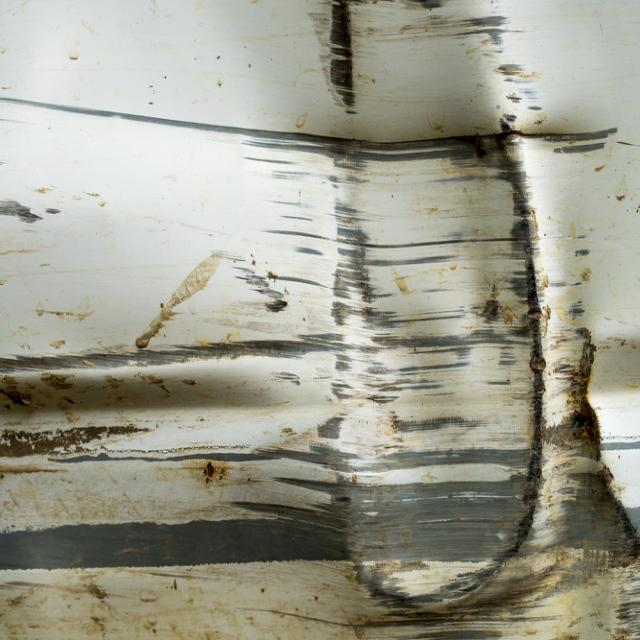dent: (327, 6, 636, 602)
scratch: (0, 0, 640, 640)
